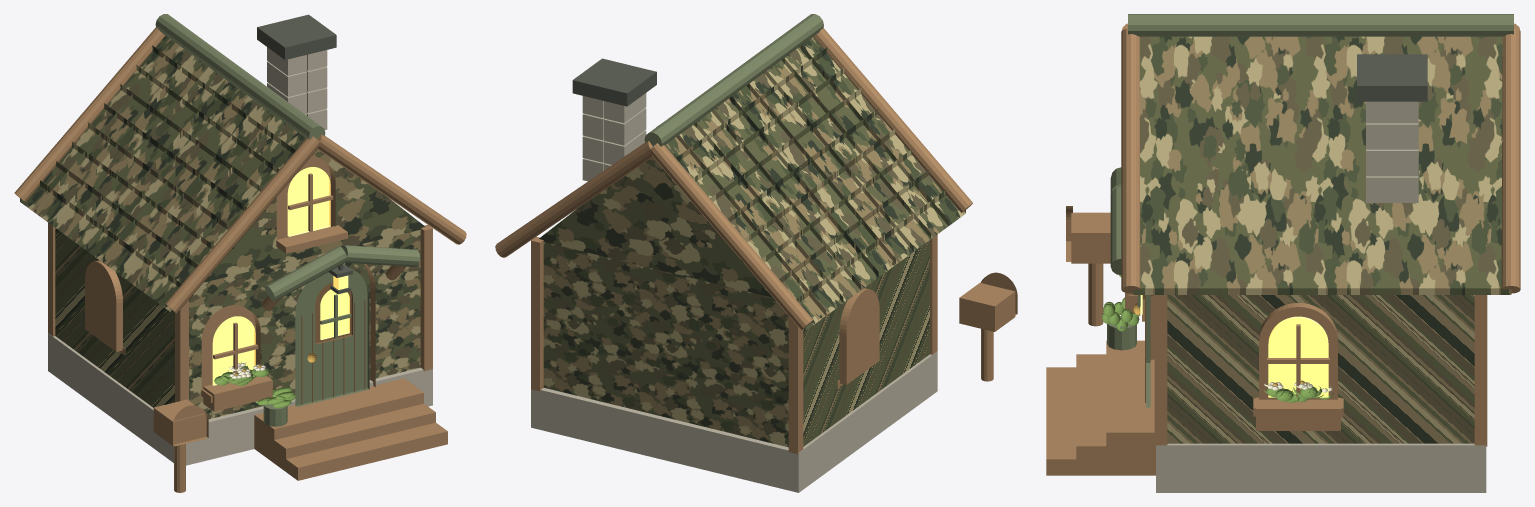
Rendered from aero_house-source.glb.
3 views of the same model, side by side, from view 1: azimuth 30°, elevation 25°; view 2: azimuth 150°, elevation 25°; view 3: azimuth 270°, elevation 25° (orthographic). The views are drawn at different scales.
Visible parts, largest first — view 1: Camo roof tile (×57), Camouflage walls, Oak gable trim (×3), Stone foundation, Gabled upper walls, Olive arched door, Arched oak window frame (×3), Porch step lower, Porch deck, Golden window pane (×2), Corner timber (×3), Roof ridge (+12 smaller); view 2: Camouflage walls, Camo roof tile (×56), Stone foundation, Gabled upper walls, Oak gable trim (×3), Corner timber (×3), Roof ridge, Arched oak window frame, Chimney cap, Chimney stone (×3), Mailbox, Mailbox post; view 3: Camo roof tile (×75), Camouflage walls, Stone foundation, Oak gable trim (×2), Roof ridge, Chimney stone (×4), Porch step lower, Porch deck, Corner timber (×2), Porch step middle, Golden window pane, Chimney cap (+9 smaller).
Part boxes in pixels (bbox=[...]): Camo roof tile (×57): bbox=[36, 55, 282, 311]; Camouflage walls: bbox=[55, 228, 420, 419]; Oak gable trim (×3): bbox=[14, 27, 466, 313]; Stone foundation: bbox=[48, 333, 432, 465]; Gabled upper walls: bbox=[204, 149, 425, 282]; Olive arched door: bbox=[295, 268, 369, 406]; Arched oak window frame (×3): bbox=[85, 156, 335, 389]; Porch step lower: bbox=[254, 422, 447, 480]; Porch deck: bbox=[254, 378, 423, 439]; Golden window pane (×2): bbox=[212, 167, 330, 385]; Corner timber (×3): bbox=[48, 223, 432, 402]; Roof ridge: bbox=[155, 14, 325, 139]; Camouflage walls: bbox=[543, 240, 929, 447]; Camo roof tile (×56): bbox=[689, 58, 948, 316]; Stone foundation: bbox=[531, 351, 937, 492]; Gabled upper walls: bbox=[539, 157, 773, 297]; Oak gable trim (×3): bbox=[495, 28, 972, 330]; Corner timber (×3): bbox=[531, 234, 937, 454]; Roof ridge: bbox=[644, 14, 823, 146]; Arched oak window frame: bbox=[839, 288, 879, 384]; Chimney cap: bbox=[572, 58, 656, 106]; Chimney stone (×3): bbox=[604, 93, 646, 164]; Mailbox: bbox=[959, 283, 1015, 331]; Mailbox post: bbox=[981, 329, 993, 381]; Camo roof tile (×75): bbox=[1133, 36, 1511, 294]; Camouflage walls: bbox=[1167, 295, 1474, 443]; Stone foundation: bbox=[1156, 443, 1486, 492]; Oak gable trim (×2): bbox=[1121, 28, 1520, 293]; Roof ridge: bbox=[1128, 14, 1513, 36]; Chimney stone (×4): bbox=[1366, 101, 1418, 202]; Porch step lower: bbox=[1046, 367, 1155, 475]; Porch deck: bbox=[1106, 340, 1154, 446]; Corner timber (×2): bbox=[1154, 295, 1487, 446]; Porch step middle: bbox=[1076, 354, 1155, 461]; Golden window pane: bbox=[1268, 316, 1328, 397]; Chimney cap: bbox=[1357, 54, 1427, 101].
Size of the model in its own units: 6.16 by 5.88 by 6.32.
Materials: 10 (1 with a texture image).
